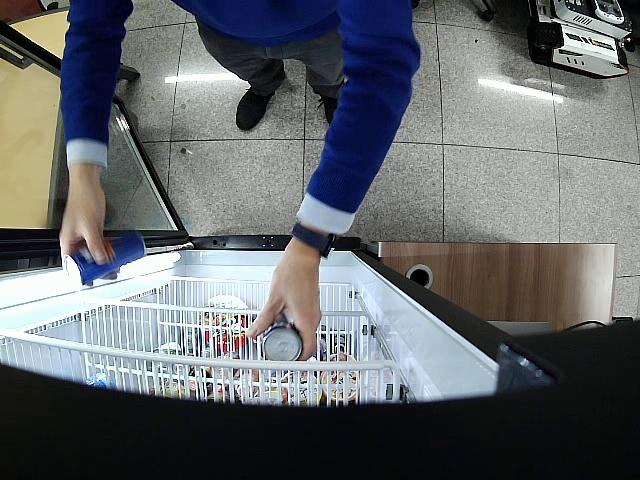00_hand: (247, 257, 320, 361), (59, 171, 118, 286)
16_hot6: (63, 231, 145, 285)
